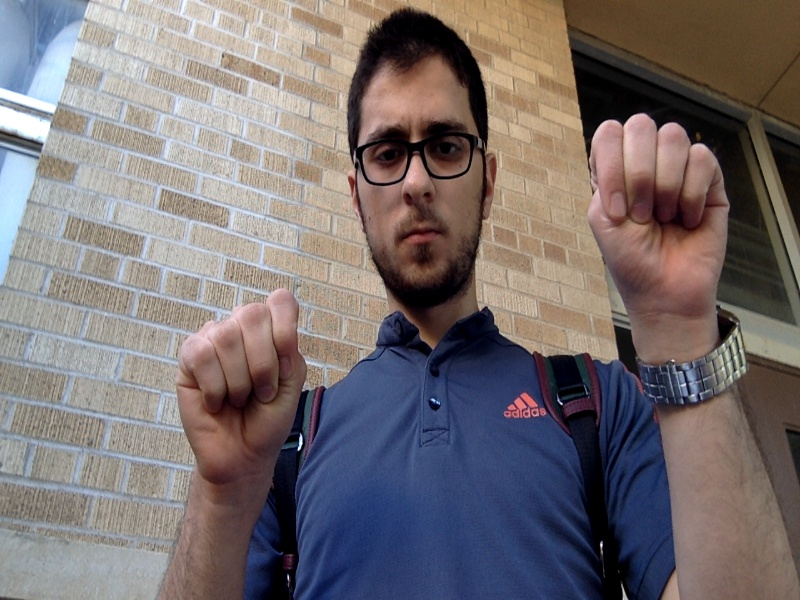0-hand: (589, 112, 729, 312), (176, 288, 307, 486)
